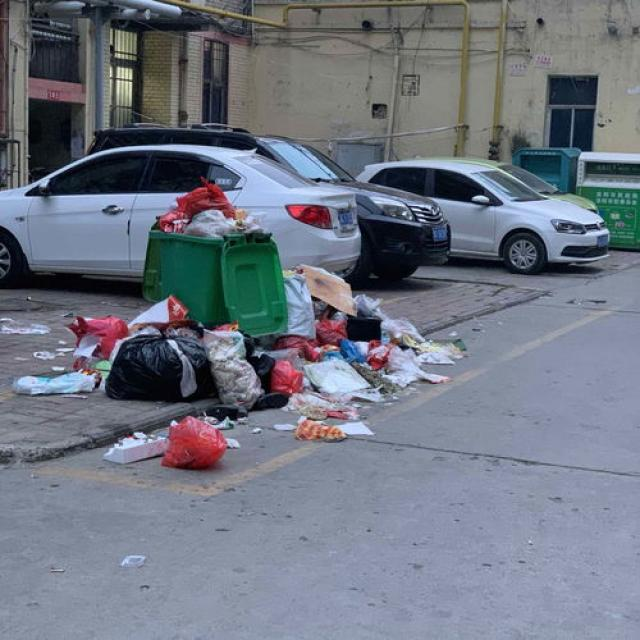garbage: (5, 266, 465, 467)
overflow: (137, 174, 288, 337)
